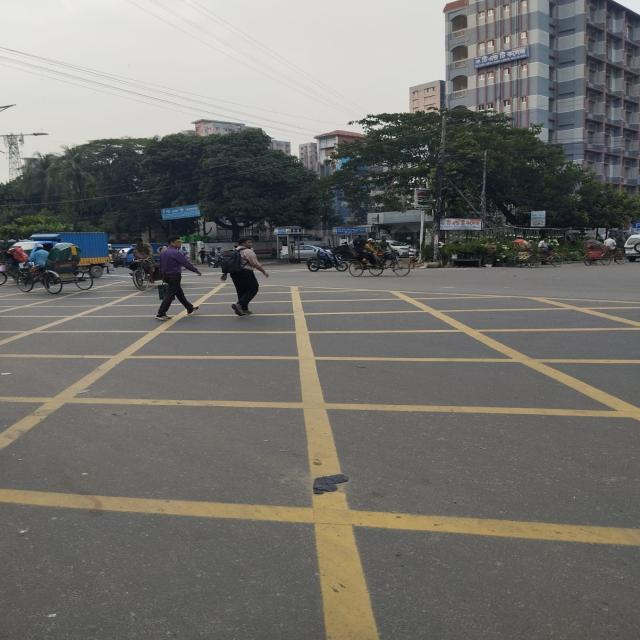person: (155, 236, 202, 320), (221, 237, 269, 316)
